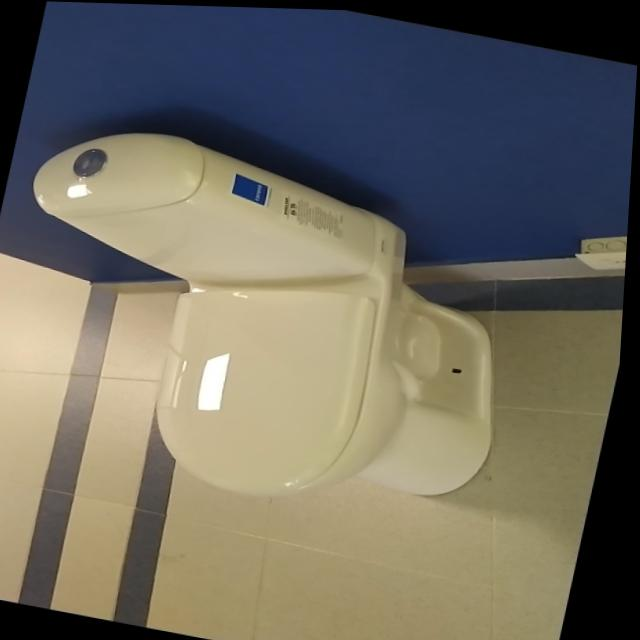toilet: (0, 109, 549, 537)
